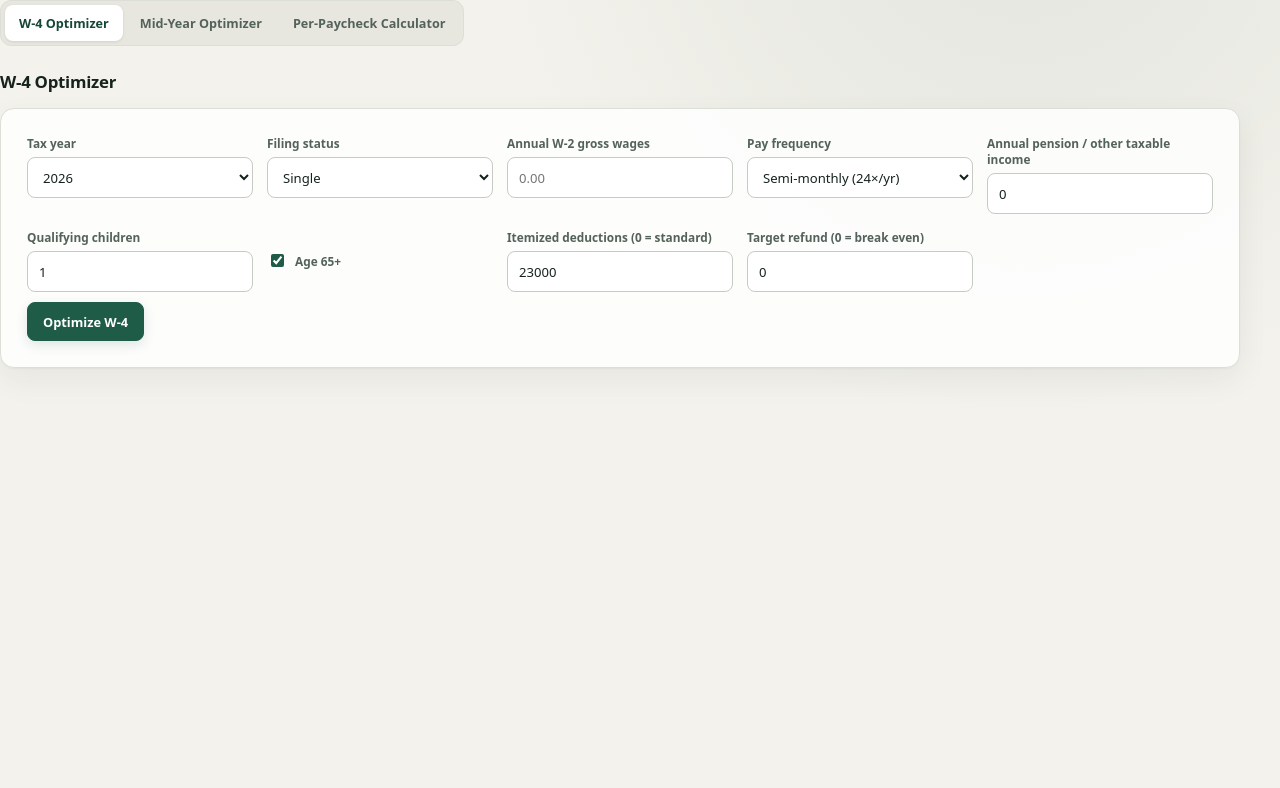
it: W4Page › loads saved age, deduction, and frequency settings across W-4 tools
The image size is (1280, 788).
Check: the checkbox labelled "Age 65+" is checked, box [271,254,284,267]
Check: the number field labelled "Itemized deductions (0 = standard)" holds "23000", box [507,251,733,292]
Click the button "Mid-Year Optimizer" at (201, 23), box [126,5,276,41]
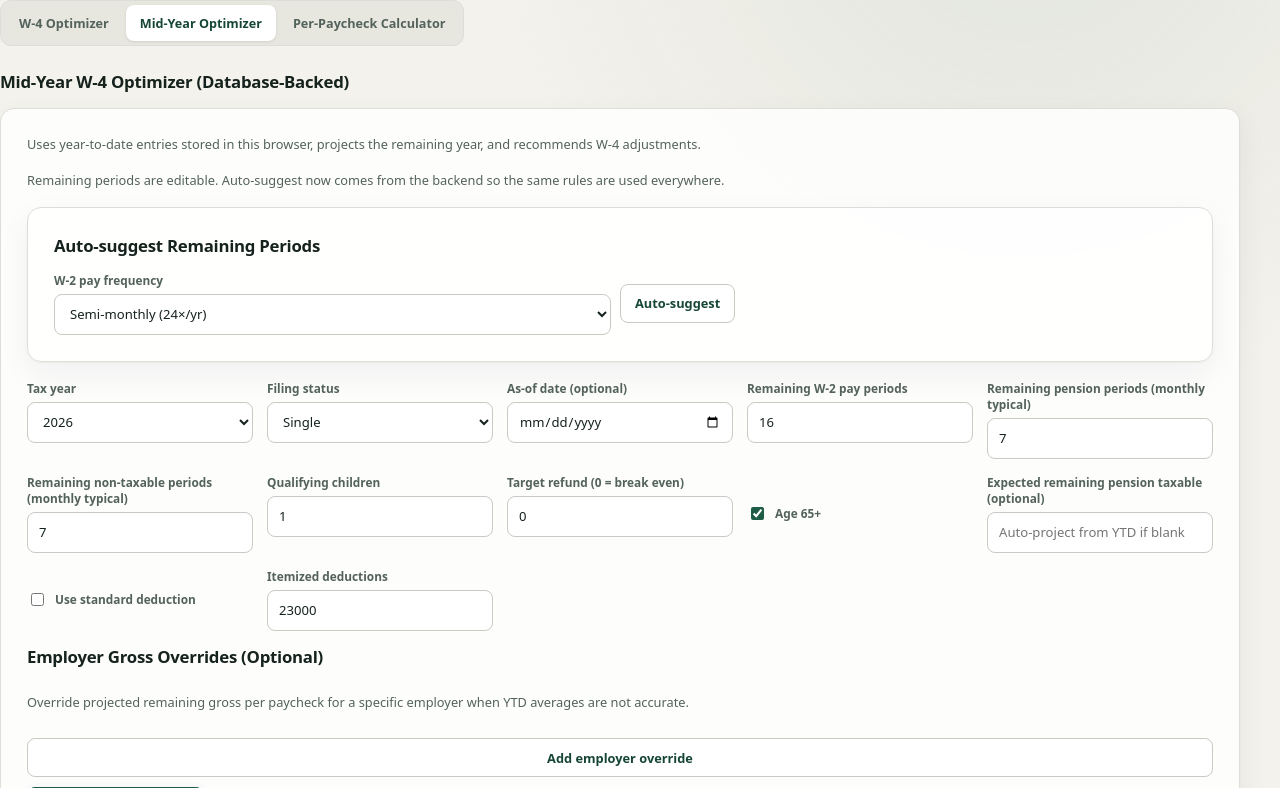
Check: the checkbox labelled "Use standard deduction" is not checked, box [31,593,44,606]
Check: the number field labelled "Itemized deductions" holds "23000", box [267,590,493,631]
Check: the dropdown labelled "W-2 pay frequency" shows "Semi-monthly (24×/yr)", box [54,294,611,335]
Click the button "Per-Paycheck Calculator" at (369, 23), box [279,5,460,41]
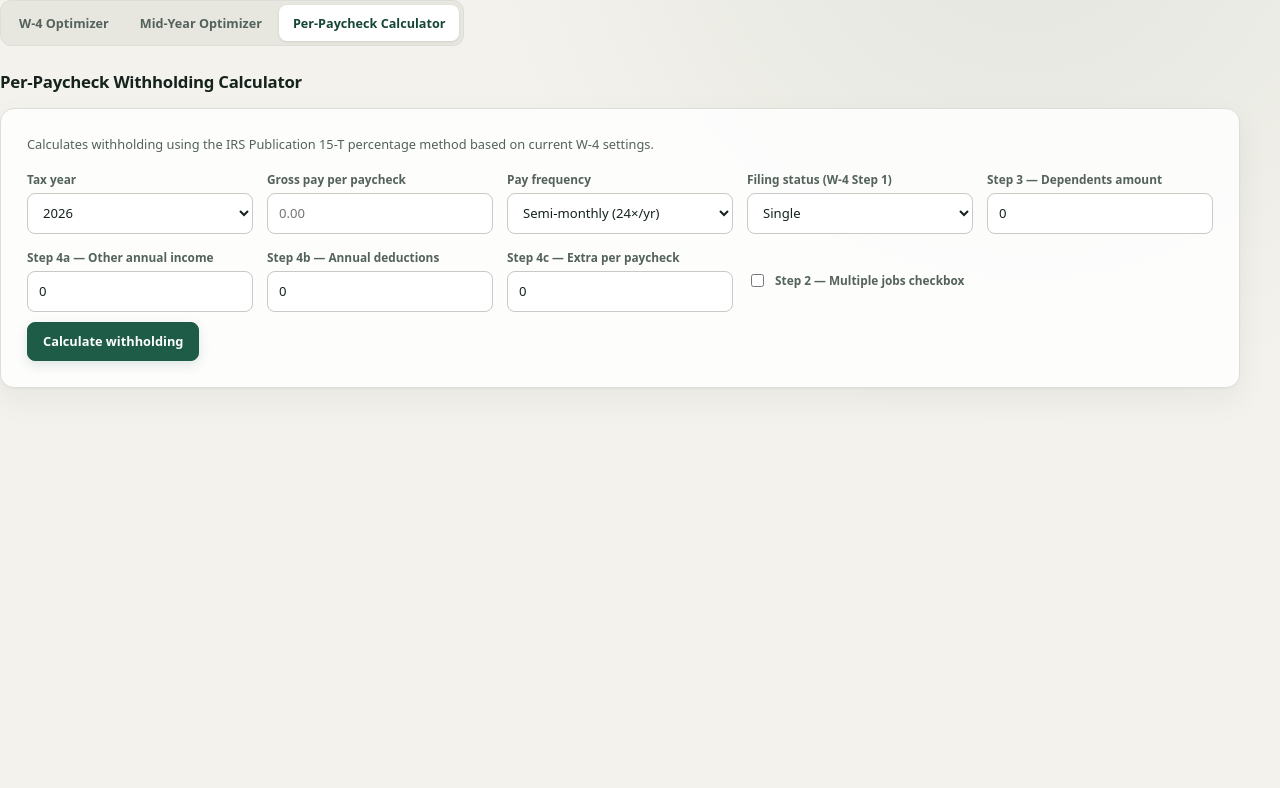
Check: the dropdown labelled "Pay frequency" shows "Semi-monthly (24×/yr)", box [507,193,733,234]
